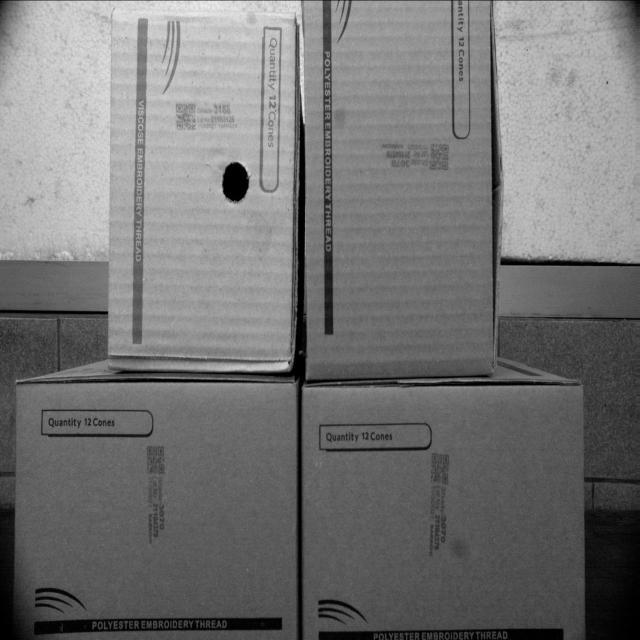box: (13, 380, 298, 640), (301, 2, 498, 374), (304, 383, 586, 639), (108, 11, 296, 368)
